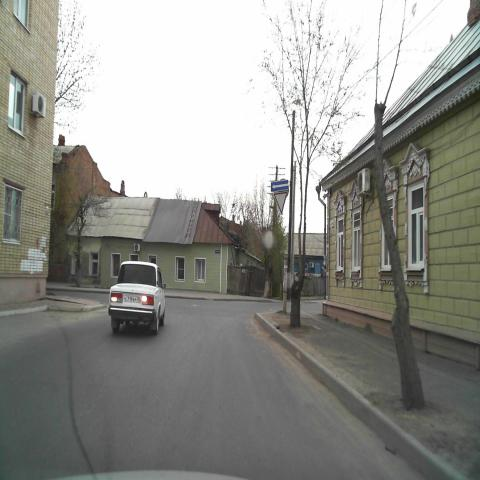5_7_2: (271, 179, 289, 191)
